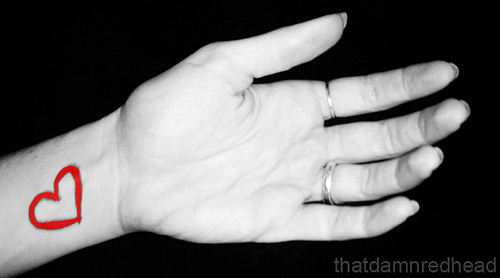palm: (136, 76, 335, 248)
